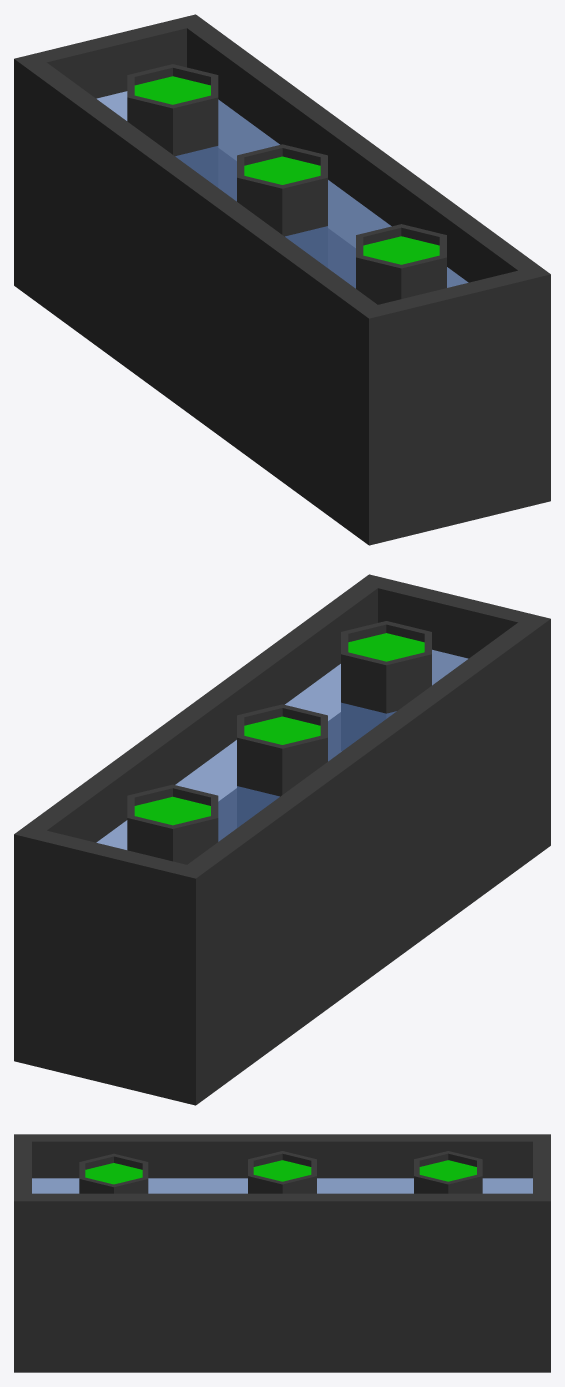
The model's file is Farm.fbx.
3 renders of one model, top to bottom at view 1: azimuth 30°, elevation 25°; view 2: azimuth 150°, elevation 25°; view 3: azimuth 270°, elevation 25°, orthographic. The views are drawn at different scales.
Visible parts, largest first — view 1: Group1; view 2: Group1; view 3: Group1.
Part boxes in pixels (<box>): Group1: <box>14,14,550,545</box>; Group1: <box>14,574,550,1105</box>; Group1: <box>14,1134,550,1372</box>.
Size of the model in its own units: 27.94 by 33.31 by 94.5.
